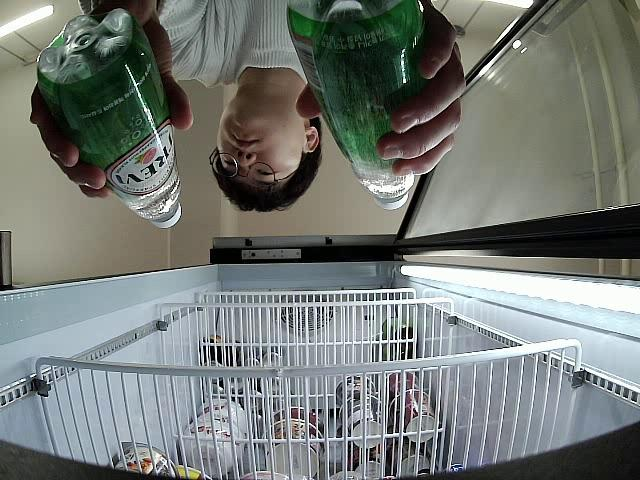00_hand: (29, 3, 194, 201), (294, 12, 467, 174)
18_trevi: (36, 9, 181, 230), (284, 0, 427, 210)
